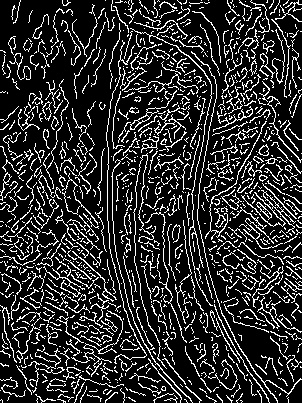cucumber: (98, 13, 278, 403)
